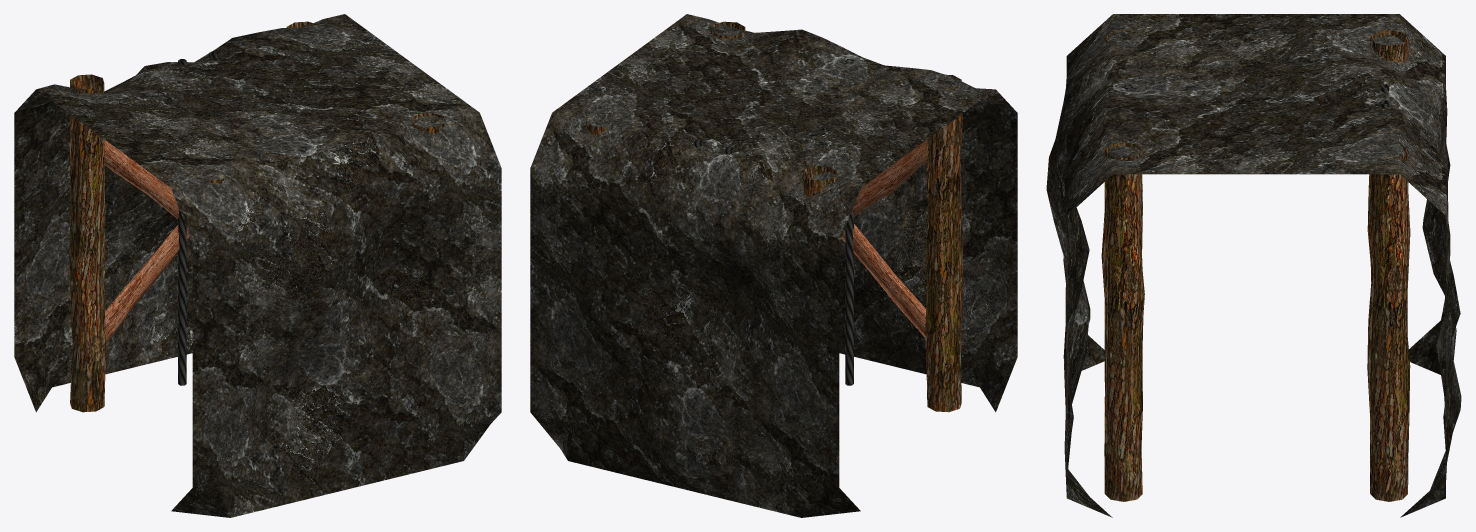
The model's file is Cave_078.fbx.
The picture shows the model from 3 angles, left to right: view 1: azimuth 30°, elevation 25°; view 2: azimuth 150°, elevation 25°; view 3: azimuth 270°, elevation 25°; orthographic projection. The views are drawn at different scales.
Visible parts, largest first — view 1: Cave.078; view 2: Cave.078; view 3: Cave.078.
Part boxes in pixels (bbox=[...]): Cave.078: bbox=[14, 14, 501, 517]; Cave.078: bbox=[530, 14, 1017, 517]; Cave.078: bbox=[1046, 14, 1461, 517].
Bounding box in the file's own units: 300 × 308 × 328.
